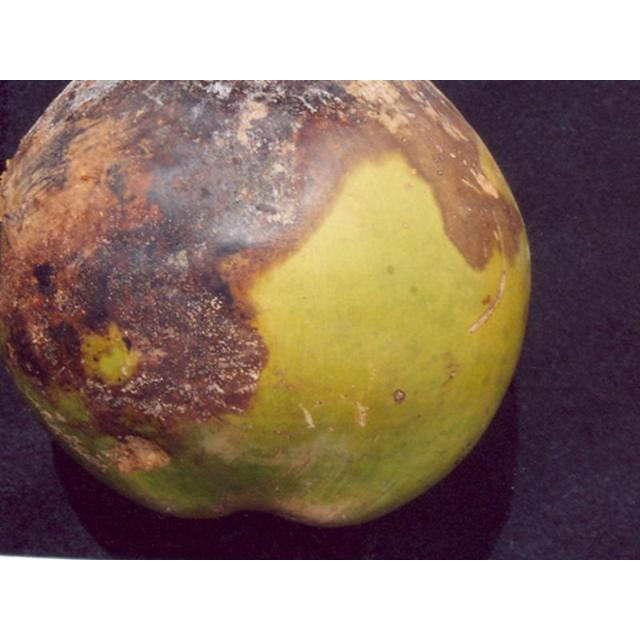damaged: (0, 80, 530, 525)
